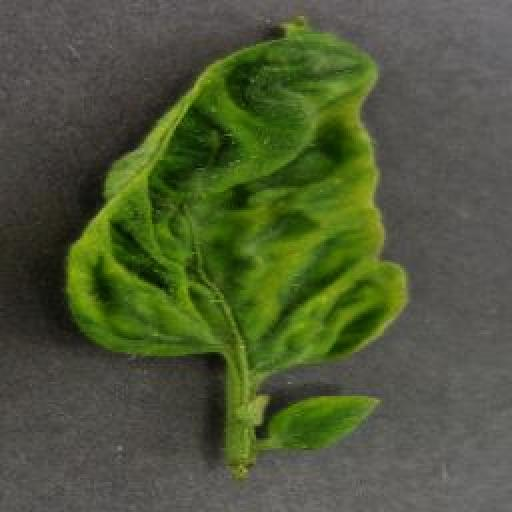disease_tomato: (60, 16, 410, 382), (267, 392, 387, 454)
